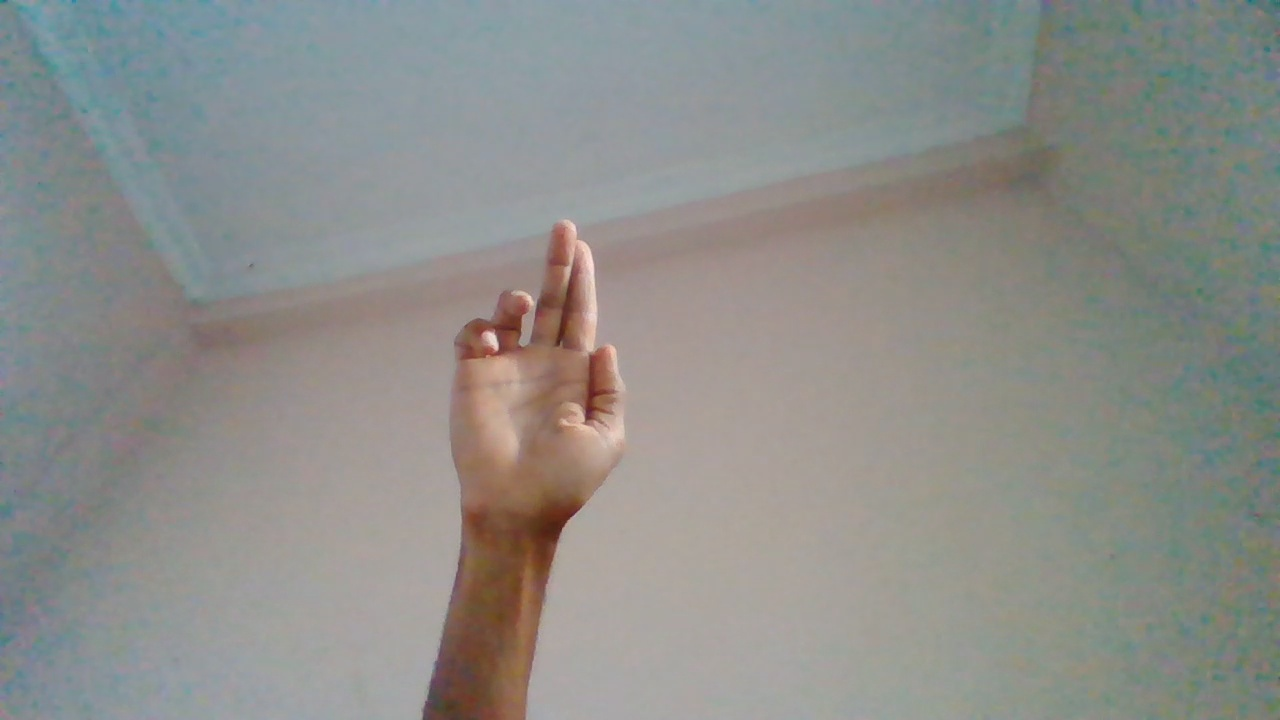gne: (439, 221, 632, 632)
